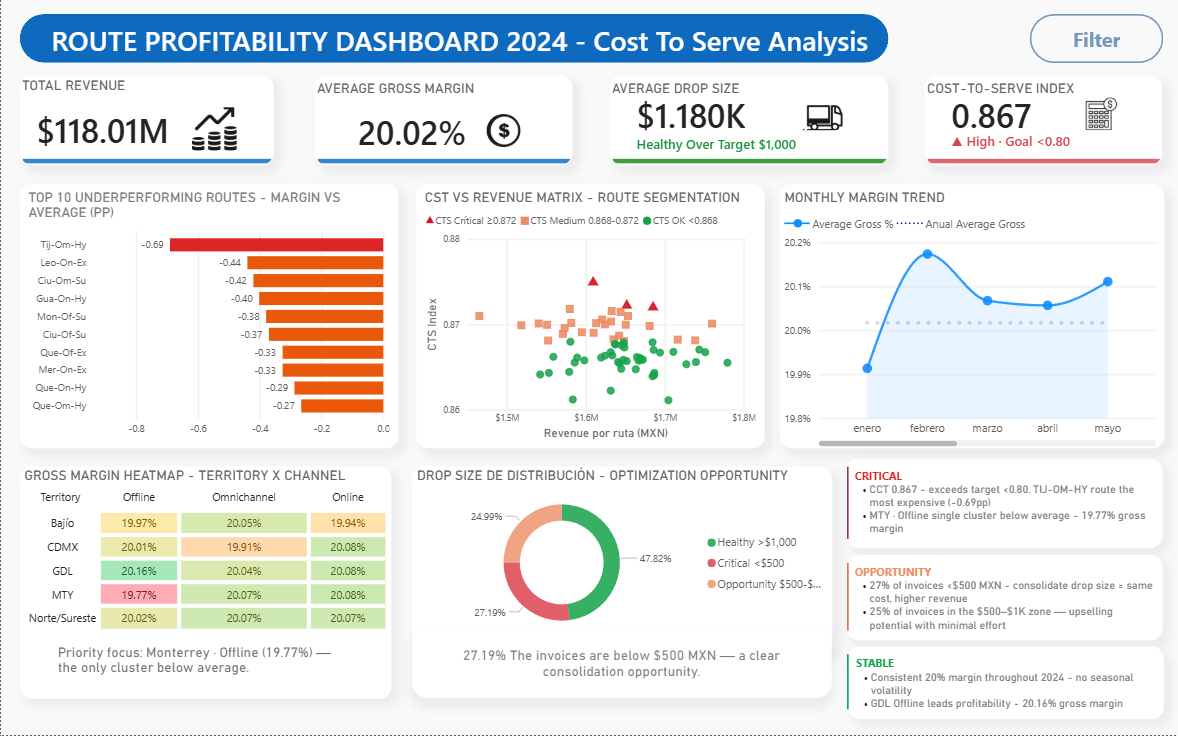

This screenshot's page, from the dashboard's own definition file:
{"tool":"powerbi","page":{"name":"Page 1","canvas":[1440,900],"ordinal":0},"visuals":[{"type":"cardVisual","title":"TOTAL REVENUE","fields":{"Data":["Sum(fct_sales.revenue)"]},"box":[23.3,93.3,310,110],"z":0},{"type":"textbox","box":[1033.7,562,387.5,108.8],"z":0,"group":"g3"},{"type":"donutChart","title":"DROP SIZE DE DISTRIBUCIÓN - OPTIMIZATION OPPORTUNITY","fields":{"Category":["fct_sales.DropBucket"],"Y":["CountNonNull(fct_sales.invoice_id)"]},"box":[502.2,572.4,513.3,231.4],"z":0,"group":"g2"},{"type":"textbox","box":[1033.7,679.5,387.5,103.8],"z":0,"group":"g4"},{"type":"textbox","box":[1033.8,792,387.5,88.8],"z":0,"group":"g5"},{"type":"cardVisual","title":"AVERAGE GROSS MARGIN","fields":{"Data":["Measure_.Margen Operativo %"]},"box":[383.3,93.3,315,110],"z":1000},{"type":"shape","box":[1027.2,571.9,16.7,88.9],"z":1000,"group":"g3"},{"type":"shape","box":[1027.1,688.3,16.8,83.2],"z":1000,"group":"g4"},{"type":"cardVisual","fields":{"Data":["Measure_.Insight Drop Size"]},"box":[502.2,768.2,512.7,87.2],"z":1000,"group":"g2"},{"type":"shape","box":[1026.8,801.5,16.8,68.2],"z":1000,"group":"g5"},{"type":"cardVisual","title":"AVERAGE DROP SIZE","fields":{"Data":["Measure_.Drop Size Promedio"]},"box":[744.4,93.2,340.9,110.1],"z":2000},{"type":"cardVisual","title":"COST-TO-SERVE INDEX","fields":{"Data":["Measure_.CTSIndex"]},"box":[1130,93.3,290,110],"z":3000},{"type":"group","id":"g1","title":"Group 1","box":[22.5,572.4,454.6,297.5],"z":4000},{"type":"pivotTable","title":"GROSS MARGIN HEATMAP - TERRITORY X CHANNEL","fields":{"Rows":["dim_locations.Territory"],"Values":["Measure_.Margen Bruto %"],"Columns":["dim_locations.channel"]},"box":[22.5,572.4,454.6,283.8],"z":4000,"group":"g1"},{"type":"lineChart","title":"MONTHLY MARGIN TREND ","fields":{"Y":["Measure_.Margen Bruto %","Measure_.Margen Promedio Anual"],"Category":["Dim_Date.Mes Nombre"]},"box":[951.8,226.7,470,323.3],"z":5000},{"type":"cardVisual","fields":{"Data":["Measure_.Foco Prioritario"]},"box":[47.7,764.4,386.7,105.5],"z":5000,"group":"g1"},{"type":"group","id":"g2","title":"Group 2","box":[502.2,572.4,513.3,283.3],"z":6000},{"type":"clusteredBarChart","title":"TOP 10 UNDERPERFORMING ROUTES  - MARGIN VS AVERAGE (PP)","fields":{"Y":["Measure_.Desviacion Margen PP"],"Category":["dim_locations.RouteID"]},"box":[22.2,226.7,463.3,323.3],"z":7000},{"type":"scatterChart","title":"CST VS REVENUE MATRIX - ROUTE SEGMENTATION","fields":{"X":["Sum(Tabla Rutas CTS.Revenue Ruta)"],"Y":["Sum(Tabla Rutas CTS.CTS Ruta)"],"Series":["Tabla Rutas CTS.Segmento"],"Category":["Tabla Rutas CTS.RouteID Corto"]},"box":[507.2,225.7,426.7,323.3],"z":8000},{"type":"group","id":"g3","title":"Group 3","box":[1027.2,562,394,108.8],"z":9000},{"type":"group","id":"g4","title":"Group 4","box":[1027.1,679.5,394.1,103.8],"z":10000},{"type":"group","id":"g5","title":"Group 5","box":[1026.8,792,394.5,88.8],"z":11000},{"type":"actionButton","box":[1258.3,18.3,163.3,60],"z":13000},{"type":"shape","title":"ROUT","box":[22.9,18.3,1062.3,59.6],"z":14000}]}

Visuals, with their boxes in screenshot pixels (x1, y1, x2, y2), scaled from the page's 1440x900 canvas onto the 1178x736 screenshot:
"TOTAL REVENUE" cardVisual: 19, 76, 273, 166
textbox: 846, 460, 1163, 549
"DROP SIZE DE DISTRIBUCIÓN - OPTIMIZATION OPPORTUNITY" donutChart: 411, 468, 831, 657
textbox: 846, 556, 1163, 641
textbox: 846, 648, 1163, 720
"AVERAGE GROSS MARGIN" cardVisual: 314, 76, 571, 166
shape: 840, 468, 854, 540
shape: 840, 563, 854, 631
cardVisual - Measure_.Insight Drop Size: 411, 628, 830, 700
shape: 840, 655, 854, 711
"AVERAGE DROP SIZE" cardVisual: 609, 76, 888, 166
"COST-TO-SERVE INDEX" cardVisual: 924, 76, 1162, 166
"Group 1" group: 18, 468, 390, 711
"GROSS MARGIN HEATMAP - TERRITORY X CHANNEL" pivotTable: 18, 468, 390, 700
"MONTHLY MARGIN TREND " lineChart: 779, 185, 1163, 450
cardVisual - Measure_.Foco Prioritario: 39, 625, 355, 711
"Group 2" group: 411, 468, 831, 700
"TOP 10 UNDERPERFORMING ROUTES  - MARGIN VS AVERAGE (PP)" clusteredBarChart: 18, 185, 397, 450
"CST VS REVENUE MATRIX - ROUTE SEGMENTATION" scatterChart: 415, 185, 764, 449
"Group 3" group: 840, 460, 1163, 549
"Group 4" group: 840, 556, 1163, 641
"Group 5" group: 840, 648, 1163, 720
actionButton: 1029, 15, 1163, 64
"ROUT" shape: 19, 15, 888, 64
